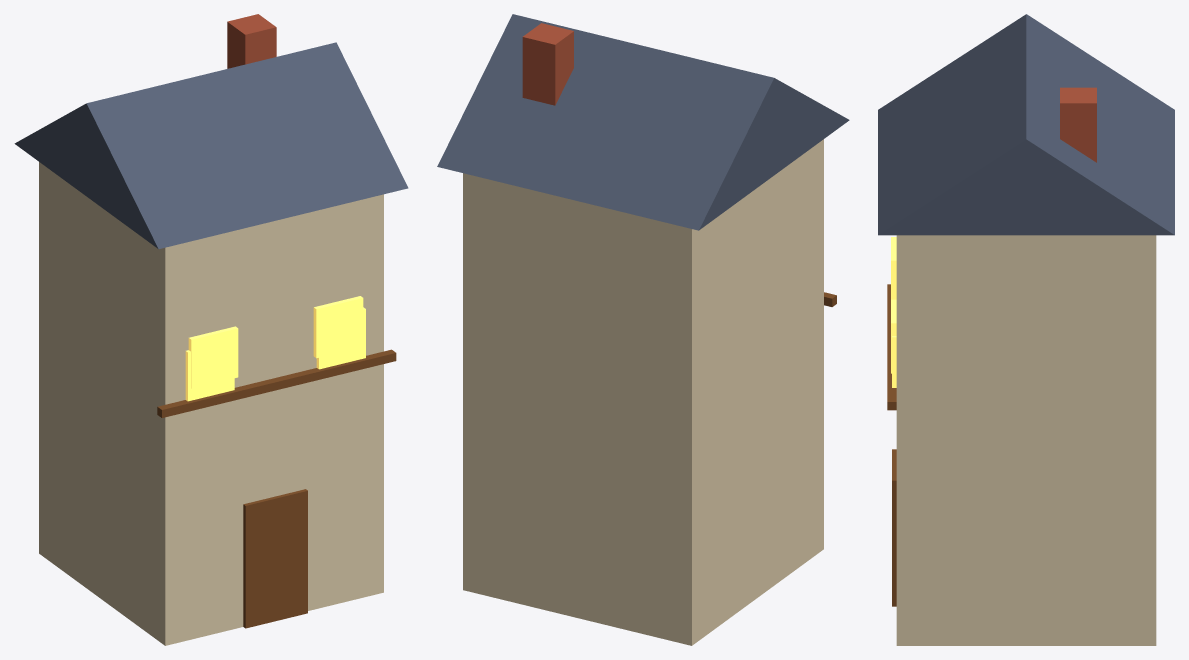
The model's file is town_tall_townhouse.glb.
The picture shows the model from 3 angles, left to right: view 1: azimuth 30°, elevation 25°; view 2: azimuth 150°, elevation 25°; view 3: azimuth 270°, elevation 25°; orthographic projection. The views are drawn at different scales.
Visible parts, largest first — view 1: tall_townhouse; view 2: tall_townhouse; view 3: tall_townhouse.
Part boxes in pixels (left/top/right/bottom): tall_townhouse: left=14, top=14, right=408, bottom=645; tall_townhouse: left=437, top=14, right=849, bottom=645; tall_townhouse: left=878, top=14, right=1174, bottom=645.
Bounding box in the file's own units: 3.2 × 6.29 × 3.2.
